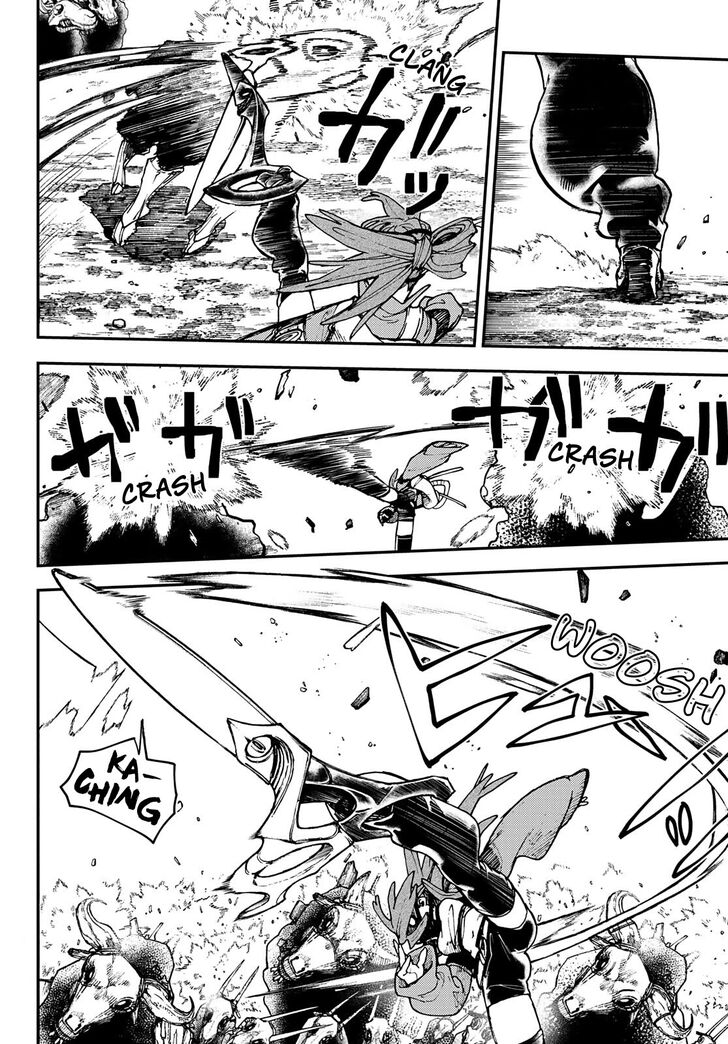bubble: (60, 722, 176, 842)
